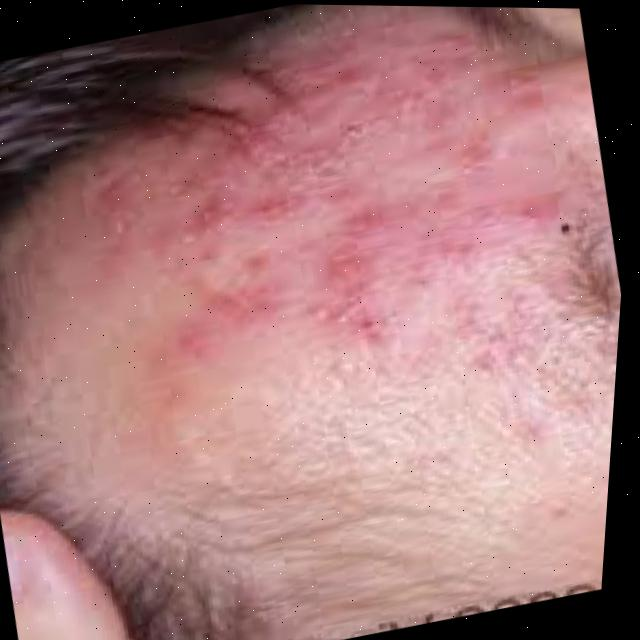Rosacea: (81, 53, 542, 415)
